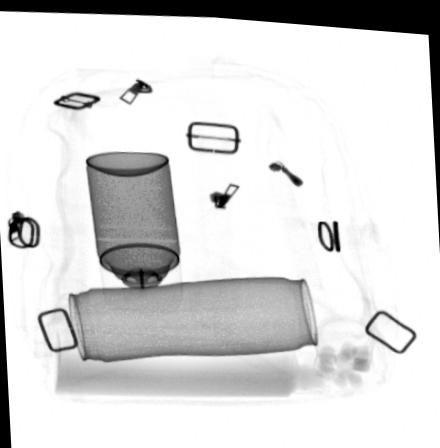Sprayer: (85, 148, 185, 316)
